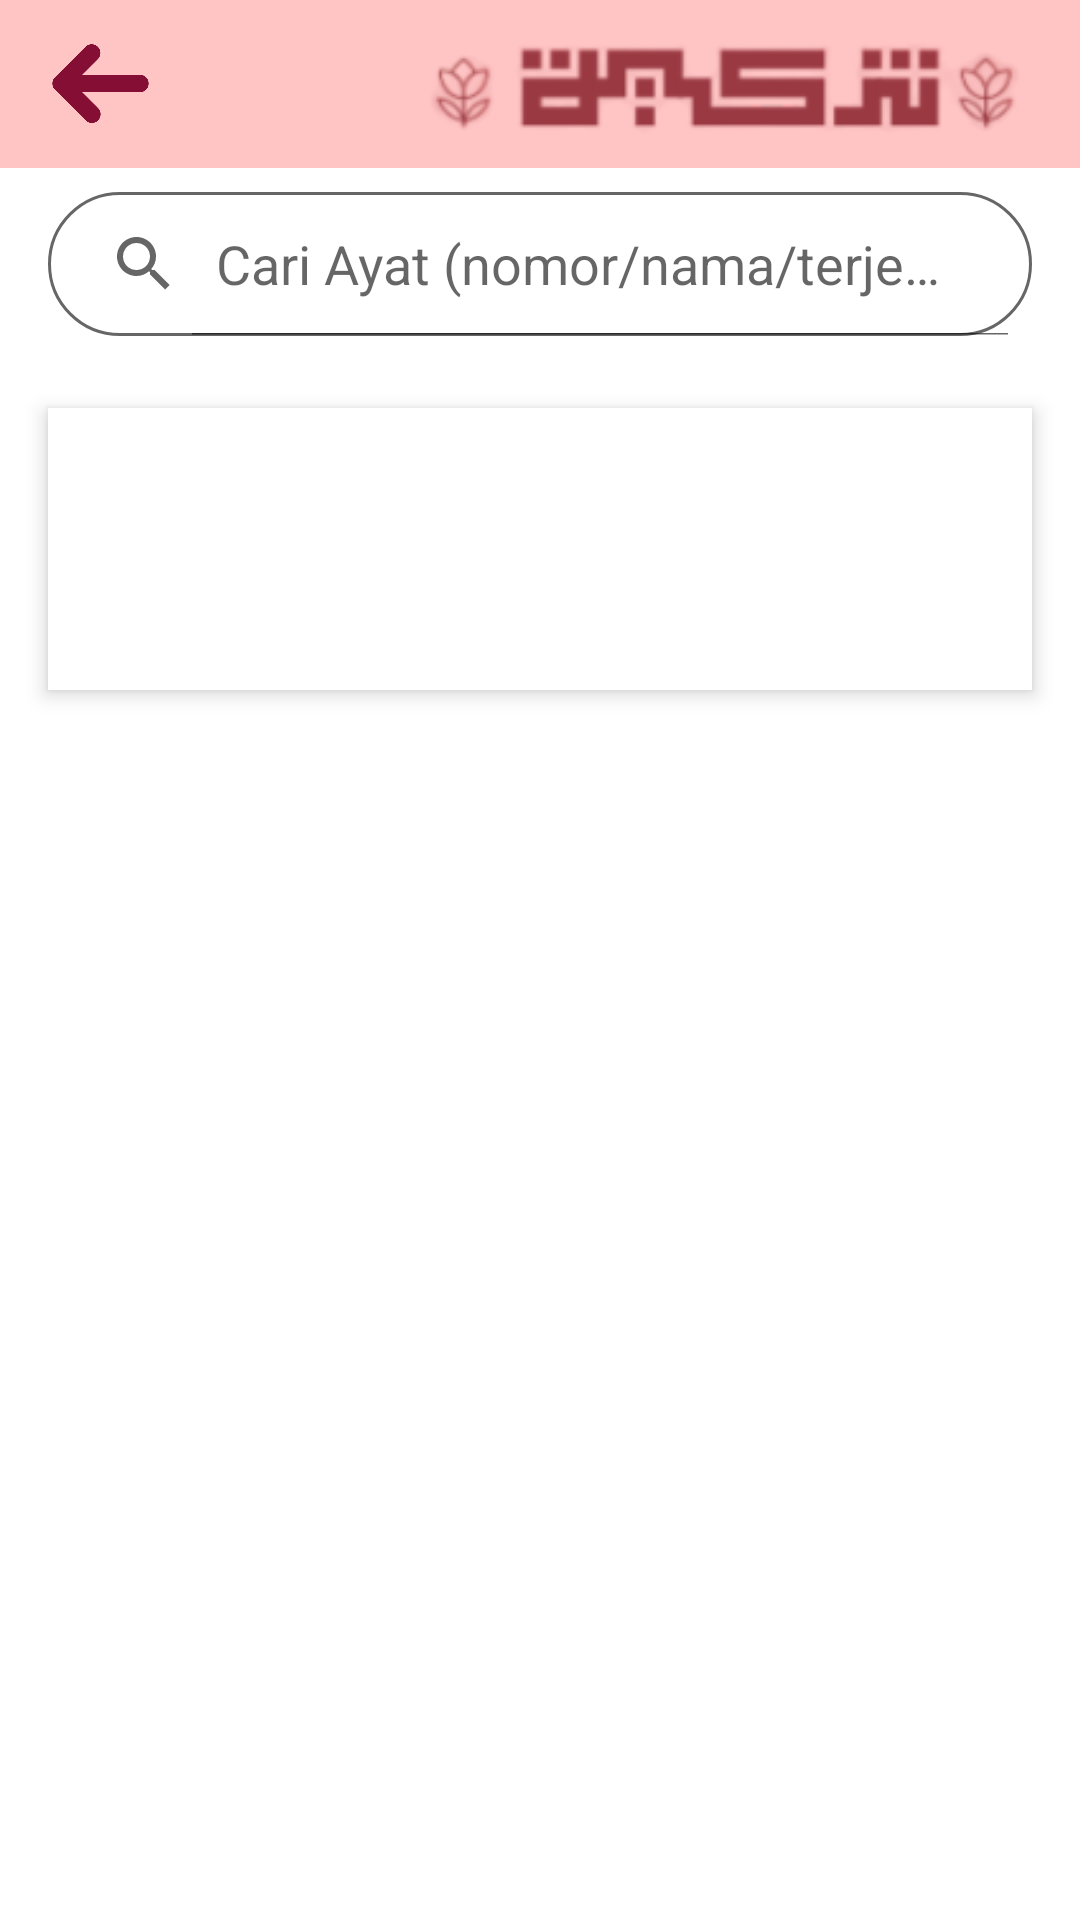

Icons on this 1080px x 1920px Android screen, each with its box as [x1,y1,x2,y2]:
Kembali: [52,44,149,123]
